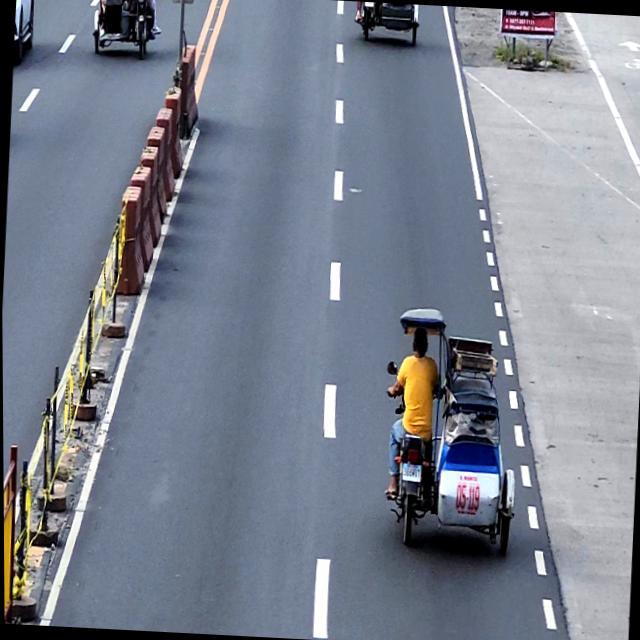Car: (13, 0, 37, 69)
License-Plate: (400, 462, 421, 484)
Tricycle: (376, 305, 525, 556), (90, 0, 158, 62), (355, 1, 421, 46)
